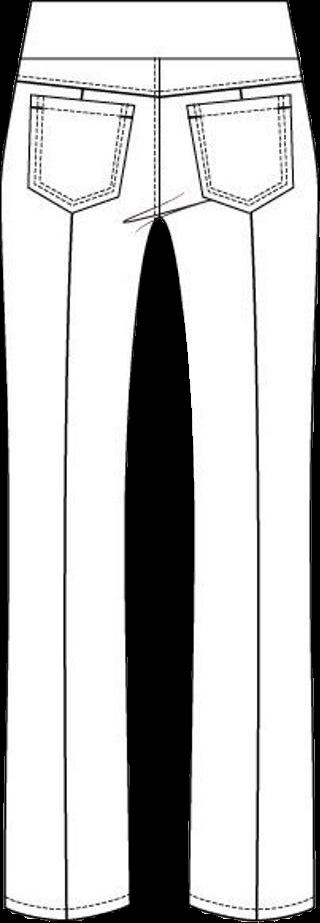Hemline: (1, 893, 133, 921), (188, 896, 317, 921)
Pantleg: (151, 1, 317, 922), (2, 1, 160, 918)
Waistline: (15, 51, 302, 67), (29, 0, 288, 10)
